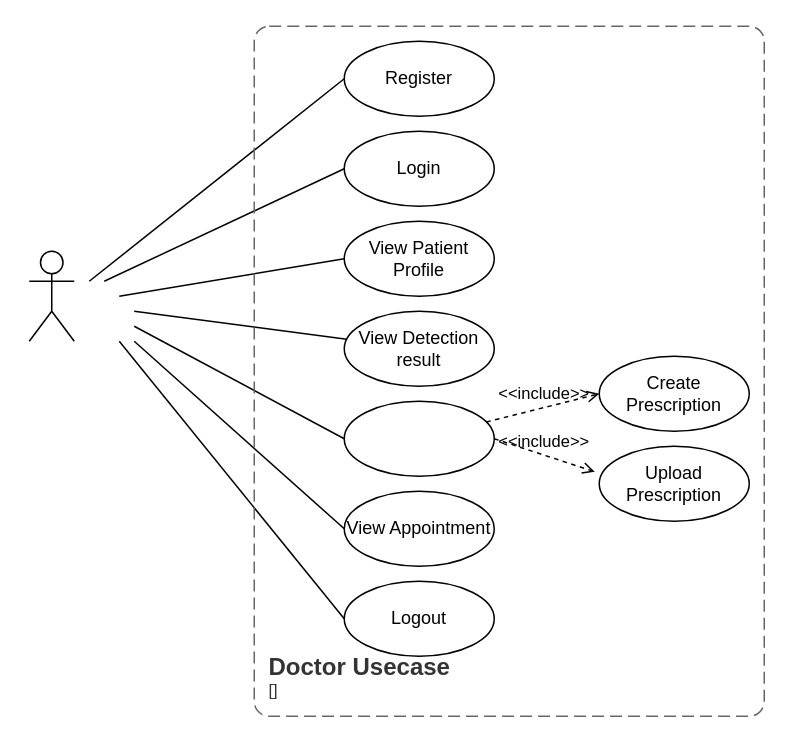
The diagram is 791 pixels wide and 743 high, and some of its shapes have lost their labels. Here are the shapes that lost their labels. From the top down, the centre of each, then its label:
At (51,295): "Doctor".
At (418,438): "Prescription".
